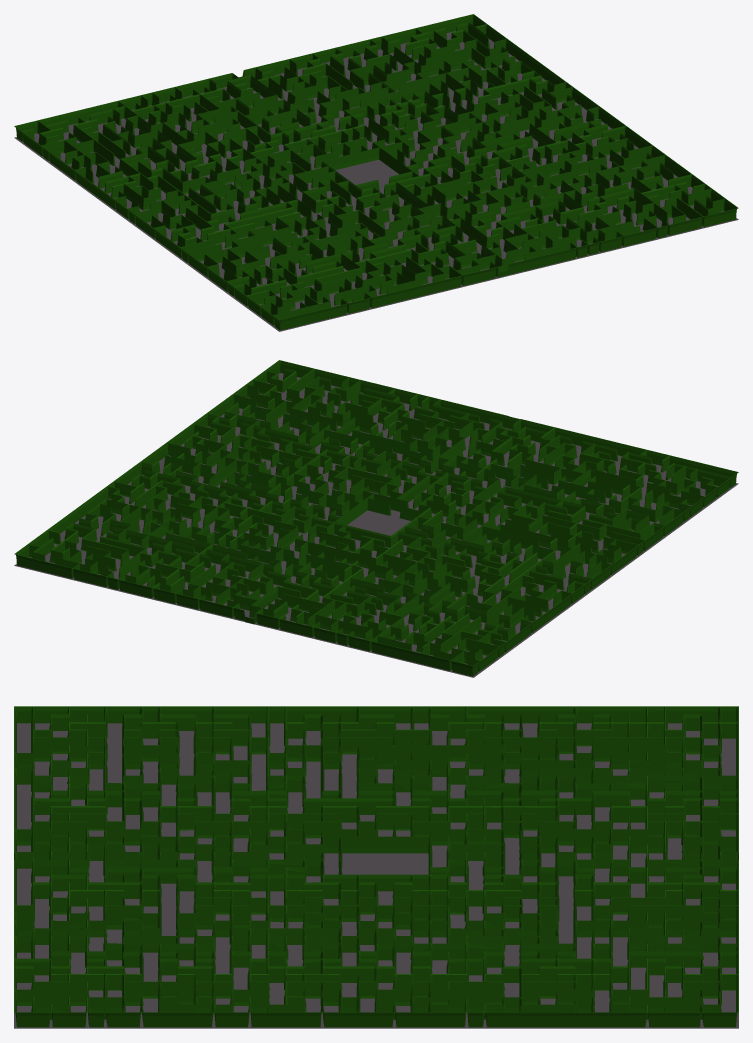
The model's file is a-maze-colour-transformed.glb.
3 renders of one model, top to bottom at view 1: azimuth 30°, elevation 25°; view 2: azimuth 150°, elevation 25°; view 3: azimuth 270°, elevation 25°, orthographic. The views are drawn at different scales.
Parts seen in each view (by area): view 1: Plane, Plane.001; view 2: Plane, Plane.001; view 3: Plane, Plane.001.
Part boxes in pixels (box(x1,y1,x2,y2)): Plane: box(14, 14, 738, 330); Plane.001: box(14, 31, 738, 331); Plane: box(14, 360, 738, 676); Plane.001: box(14, 373, 738, 677); Plane: box(14, 706, 738, 1027); Plane.001: box(14, 723, 738, 1028).
Bounding box in the file's own units: 20 × 0.5282 × 20.
